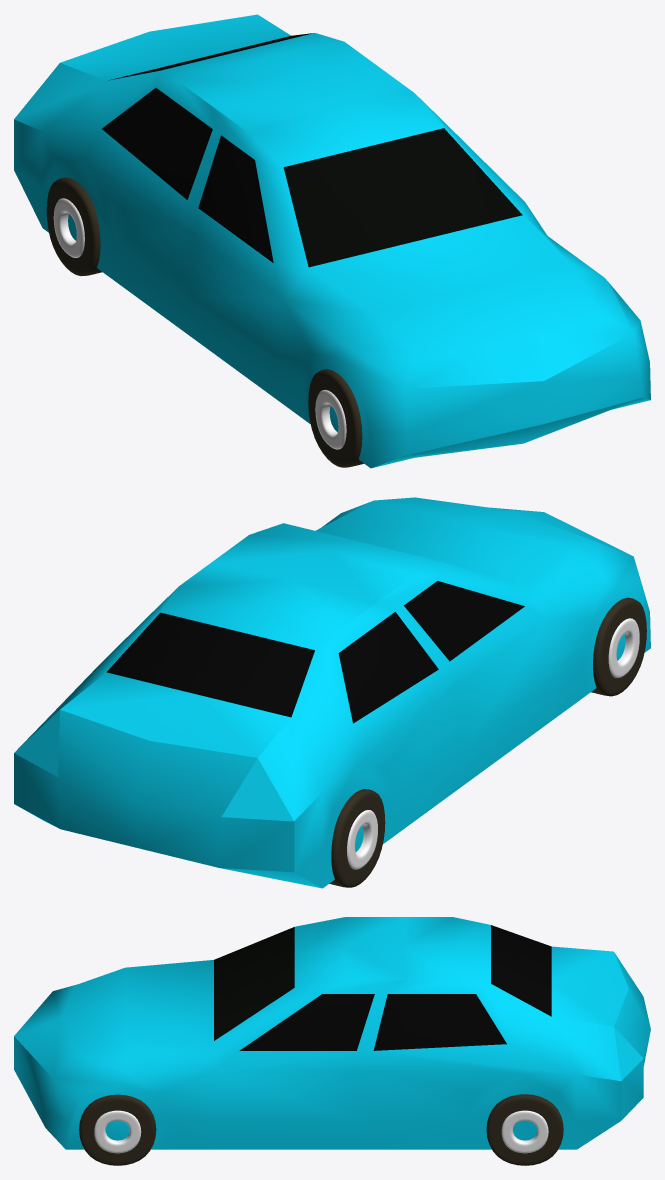
Rendered from car.fbx.
3 views of the same model, one above another, from view 1: azimuth 30°, elevation 25°; view 2: azimuth 150°, elevation 25°; view 3: azimuth 270°, elevation 25° (orthographic). The views are drawn at different scales.
Parts seen in each view (by area): view 1: Cube.002, Cube.003, Cube.004; view 2: Cube.002, Cube.003, Cube.004; view 3: Cube.002, Cube.003, Cube.004.
Boxes of the visible parts, <box> form: Cube.002: <box>14,14,650,468</box>; Cube.003: <box>46,177,102,276</box>; Cube.004: <box>308,369,363,467</box>; Cube.002: <box>14,497,650,888</box>; Cube.003: <box>329,789,385,887</box>; Cube.004: <box>591,597,646,696</box>; Cube.002: <box>14,917,650,1149</box>; Cube.003: <box>486,1094,563,1165</box>; Cube.004: <box>79,1094,156,1165</box>.
Size of the model in its own units: 359 by 247 by 860.
